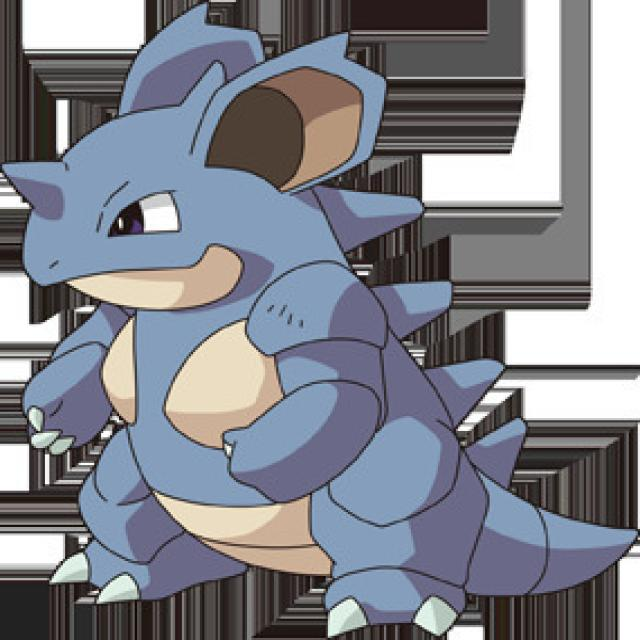Nidoqueen: (0, 39, 574, 615)
